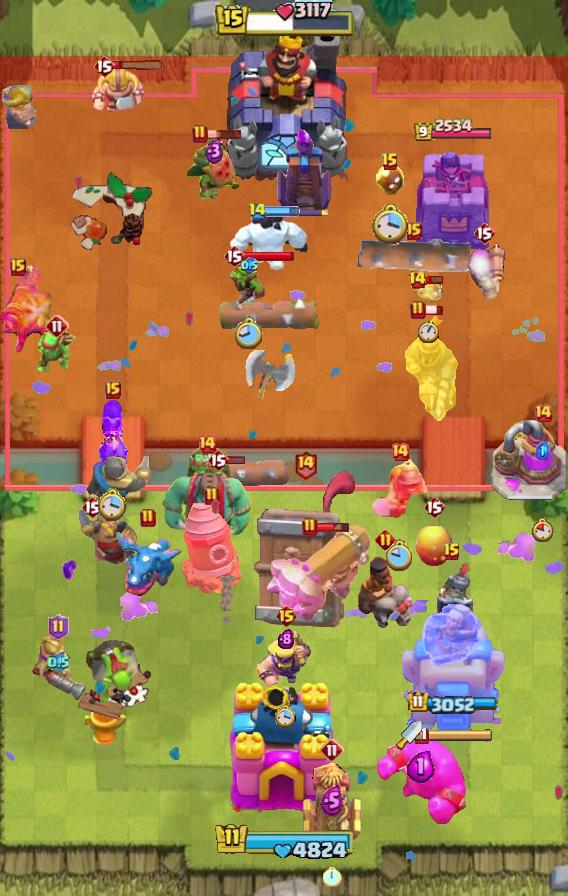axe: (244, 350, 296, 402)
bar: (243, 250, 295, 262), (113, 60, 165, 71), (206, 128, 243, 140), (316, 521, 351, 533), (264, 206, 300, 217), (424, 304, 444, 316), (424, 274, 444, 285), (227, 455, 246, 465)
bar-level: (293, 449, 318, 480), (320, 738, 344, 762), (45, 314, 69, 338), (275, 604, 298, 628), (48, 614, 69, 640), (423, 495, 445, 519), (81, 495, 103, 519), (207, 448, 229, 472), (223, 244, 245, 268), (473, 221, 495, 245), (93, 54, 115, 78), (375, 529, 396, 550), (390, 442, 410, 462), (197, 434, 217, 454), (533, 403, 553, 423), (408, 270, 427, 290), (248, 202, 267, 221), (443, 542, 461, 562), (381, 152, 399, 172), (302, 517, 318, 537), (140, 508, 156, 528), (204, 486, 220, 506), (410, 300, 426, 320), (192, 124, 208, 144), (105, 381, 121, 399), (10, 258, 26, 276), (406, 222, 422, 240), (414, 726, 429, 745)
barbarian-evolution: (257, 623, 315, 689)
bomber-evolution: (96, 400, 130, 482)
clock: (372, 204, 409, 246), (98, 486, 128, 521), (235, 316, 264, 351), (386, 539, 414, 571), (275, 703, 297, 728), (532, 517, 554, 542), (418, 320, 439, 343), (323, 866, 342, 887)
dagger-duchess-tower: (398, 595, 508, 731)
dagger-duchess-tower-bar: (422, 728, 494, 742)
dart-goblin: (185, 132, 243, 202)
dirt: (216, 576, 239, 626)
electro-dragon: (113, 529, 183, 597)
elite-barbarian: (91, 66, 145, 114), (0, 83, 36, 130)
elixir: (407, 749, 435, 783), (320, 785, 344, 816), (205, 138, 224, 164), (47, 652, 70, 673), (278, 629, 294, 649), (241, 257, 258, 274), (536, 441, 550, 460)
fire-spirit: (373, 160, 407, 198)
firecracker: (462, 241, 506, 303)
firecracker-evolution: (0, 264, 56, 356)
goblin: (225, 260, 273, 306)
goblin-ball: (83, 637, 141, 709)
guard: (429, 563, 475, 625)
king-tower: (219, 21, 349, 181), (222, 680, 346, 826)
king-tower-bar: (210, 821, 358, 863), (214, 0, 355, 40)
knight: (79, 510, 138, 571), (86, 456, 152, 502)
lava-pup: (411, 276, 445, 304)
miner: (370, 455, 430, 523)
musketeer: (29, 632, 87, 702)
phoenix-egg: (414, 524, 454, 568)
queen-tower: (410, 145, 496, 256)
ram-rider: (356, 554, 414, 630)
spear-goblin: (33, 327, 81, 375)
tesla: (301, 761, 363, 845)
the-log: (353, 234, 475, 278), (181, 456, 289, 492), (218, 298, 322, 332)
tower-bar: (408, 691, 498, 714), (413, 118, 493, 143)
